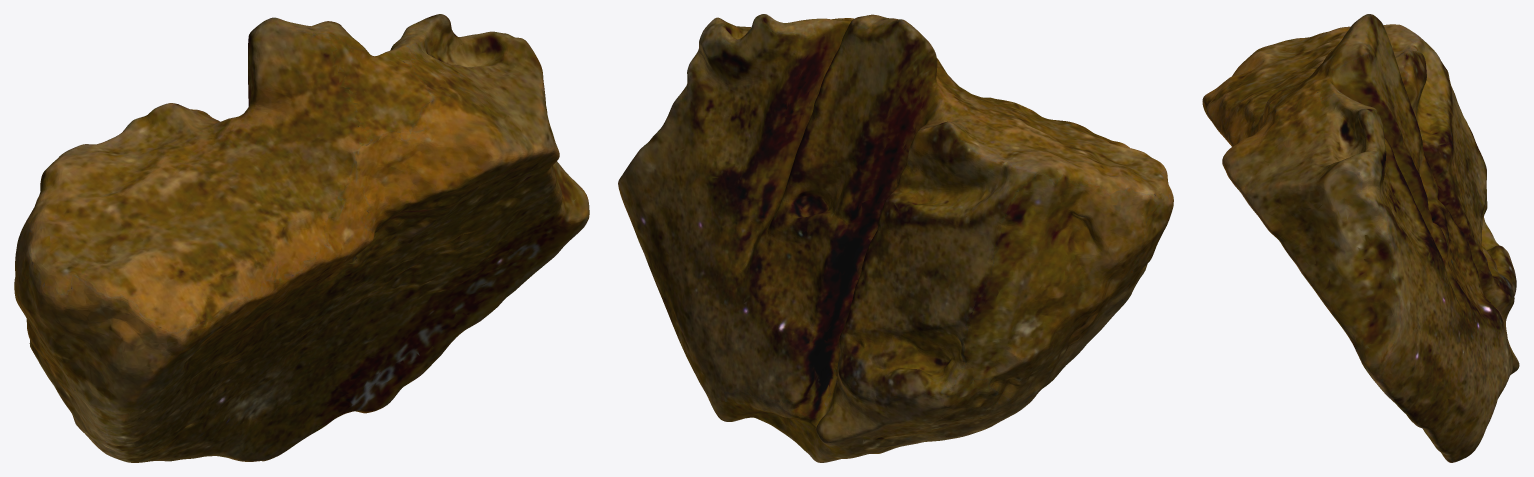
Rendered from SAS-5A93.fbx.
The picture shows the model from 3 angles, left to right: view 1: azimuth 30°, elevation 25°; view 2: azimuth 150°, elevation 25°; view 3: azimuth 270°, elevation 25°; orthographic projection. The views are drawn at different scales.
Parts seen in each view (by area): view 1: SAS5A93JN2022_LOD00; view 2: SAS5A93JN2022_LOD00; view 3: SAS5A93JN2022_LOD00.
Boxes of the visible parts, <box> form: SAS5A93JN2022_LOD00: <box>14,14,589,462</box>; SAS5A93JN2022_LOD00: <box>618,14,1173,462</box>; SAS5A93JN2022_LOD00: <box>1202,14,1519,462</box>.
Size of what is drawn, in the model's own units: 5841 by 4573 by 3247.
1 material, 1 textured.
